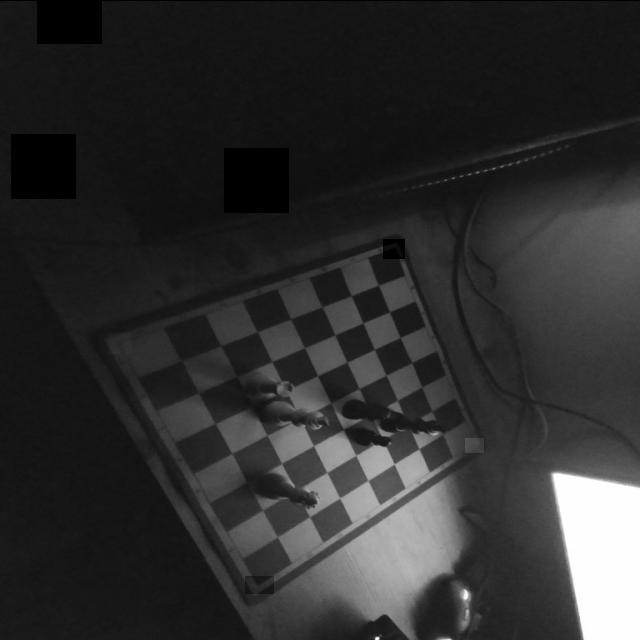chess-table-corners: (245, 575, 274, 593), (108, 332, 132, 353), (383, 238, 405, 258), (465, 437, 484, 452)
